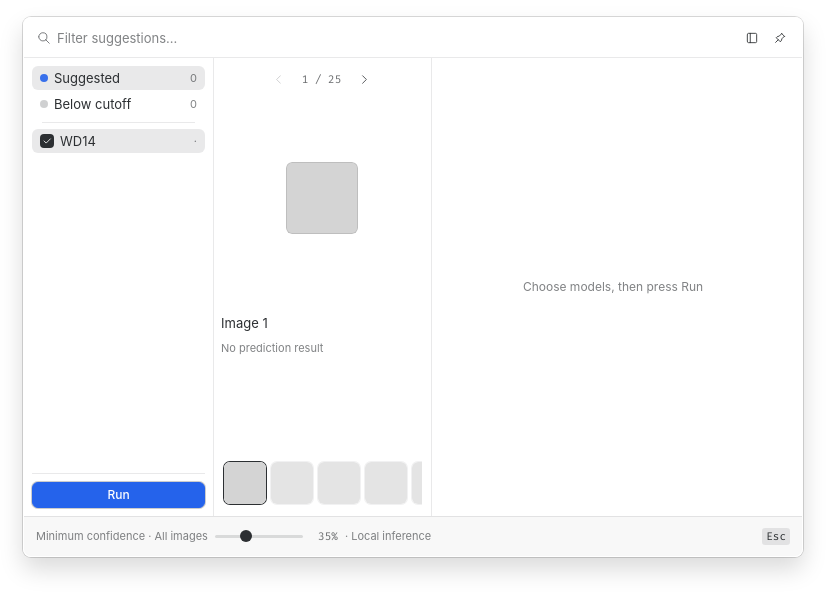
Test: AiTaggerPanel › streams beyond the review window and retains every prediction
Click the button "Run". click: (118, 495)
box: [32,482,205,508]
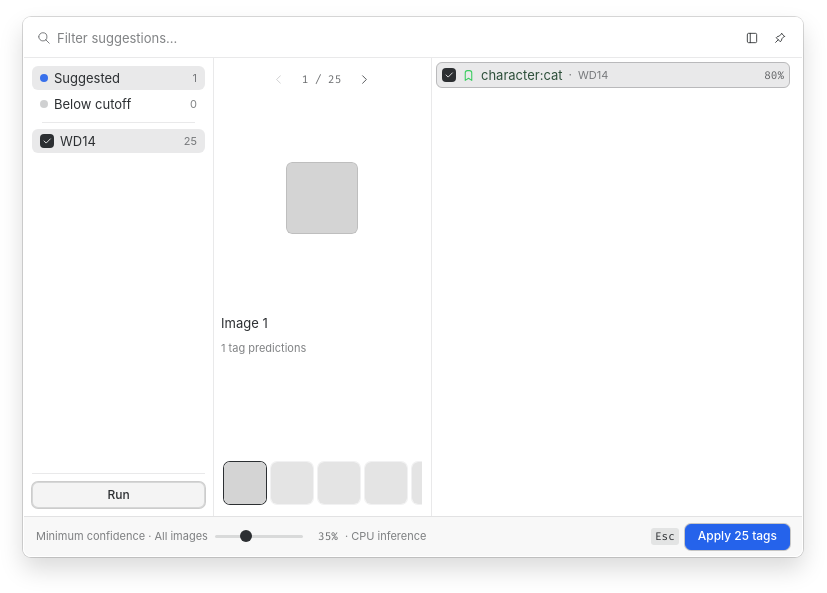
Now the button "Apply 25 tags" is enabled, box [685,524,790,550]
